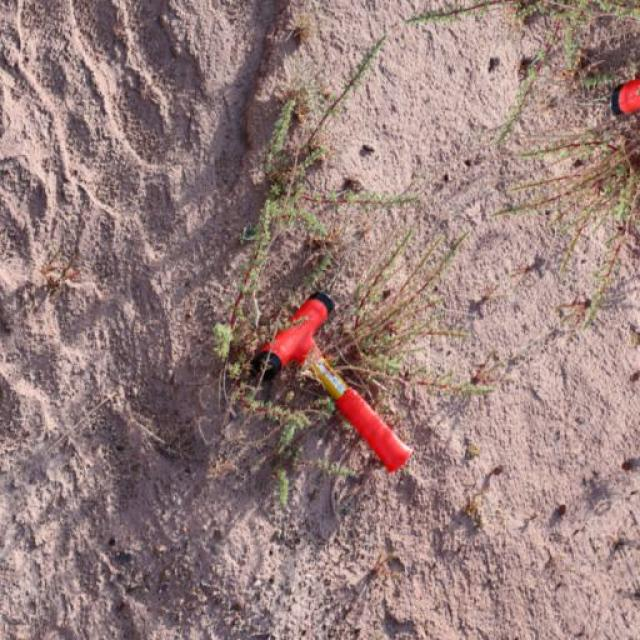mallet: (254, 288, 416, 472)
